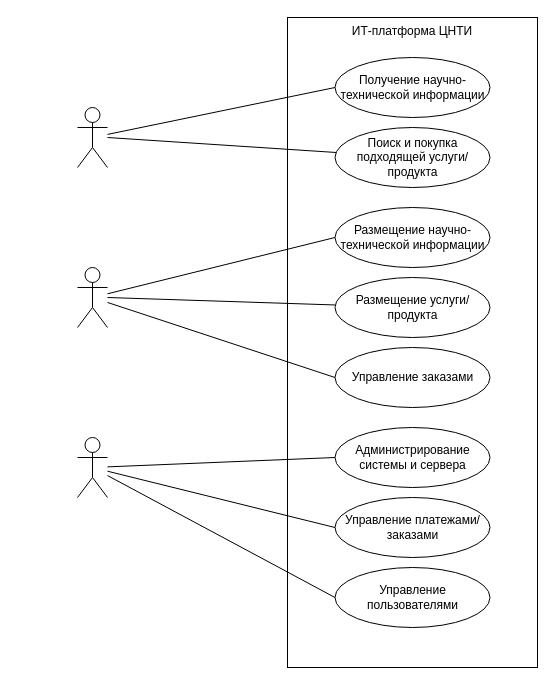
Some shapes in this 555 by 685 pixel diagram are drawn without their labels. Here are the shapes that lost their labels. From the top down, the centre of each, then its label:
point 92,137: Потребитель/пользователь
point 92,297: Эксперт/исполнитель
point 92,467: Администратор
